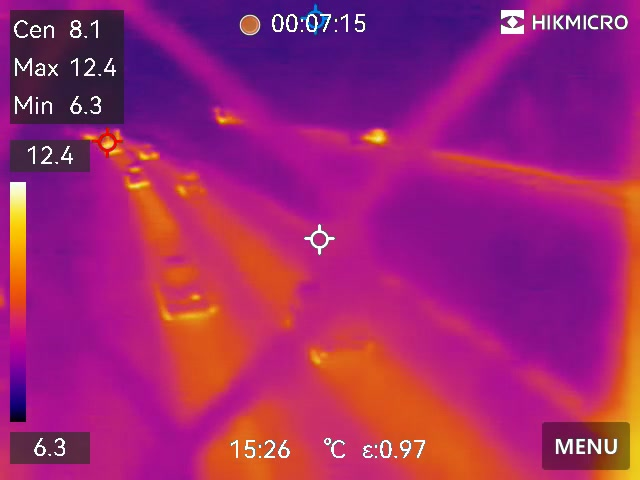vehicle: (148, 253, 219, 320), (120, 165, 154, 192)
